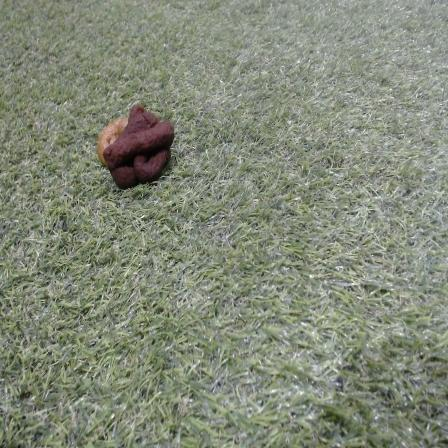dog-poop: (94, 104, 176, 188)
